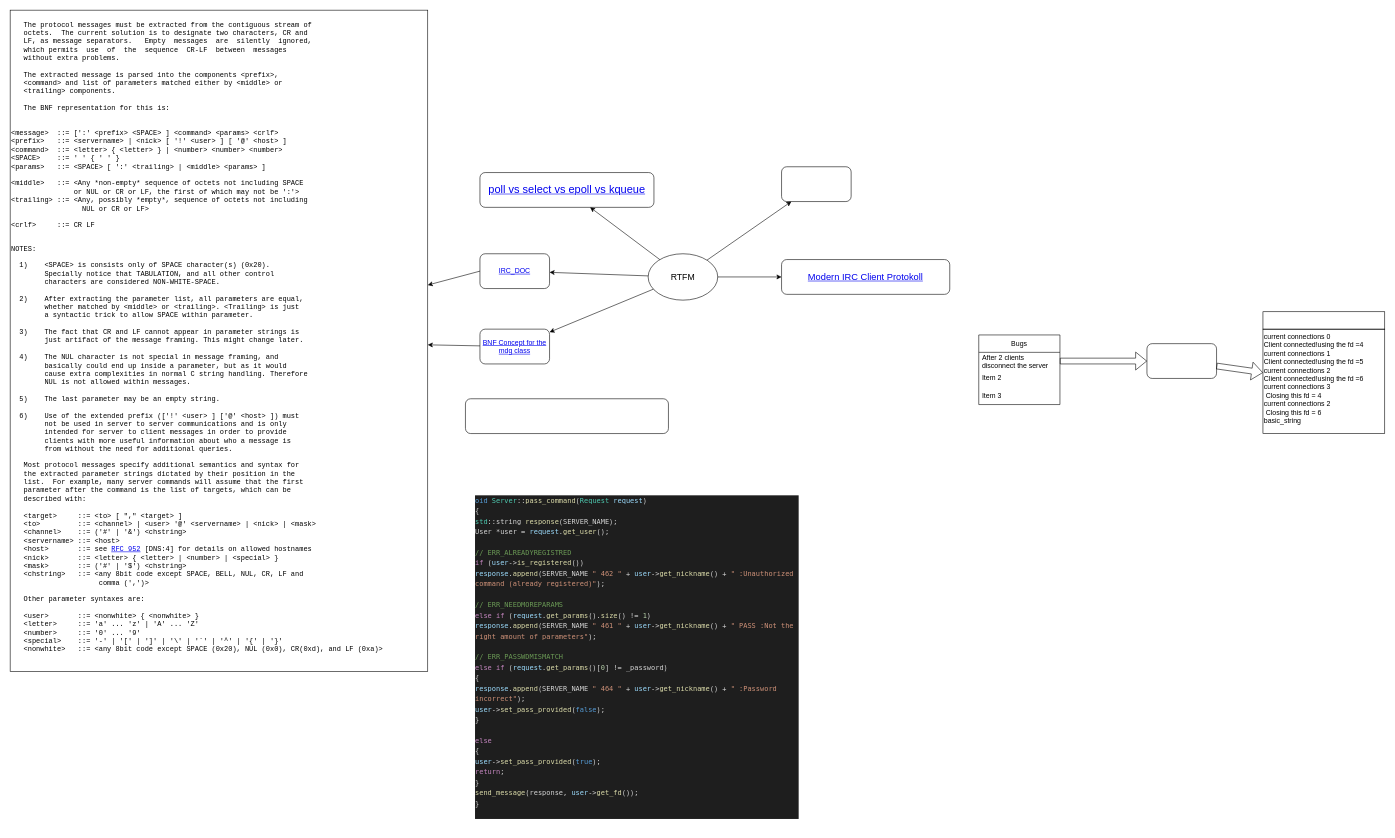
Some shapes in this 1395 by 838 pixel diagram are drawn without their labels. Each missing label, with the centre of its shape:
"512 char limit for msg -you can only type. 401 chars in a msg" belongs at pixel 566 416.
"connected 3 clients with nc quit 2 of them with ctrl c ." belongs at pixel 1181 360.
"Server terminal" belongs at pixel 1323 320.
"Sockets" belongs at pixel 816 184.
